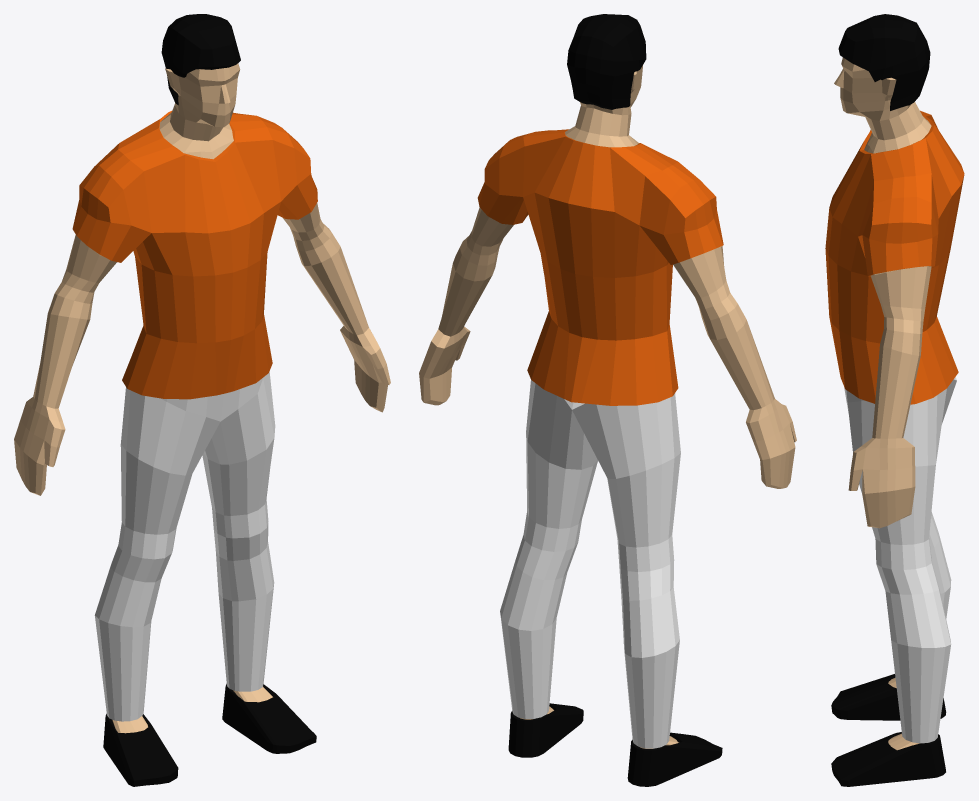
The model's file is male.glb.
3 views of the same model, side by side, from view 1: azimuth 30°, elevation 25°; view 2: azimuth 150°, elevation 25°; view 3: azimuth 270°, elevation 25° (orthographic).
Visible parts, largest first — view 1: Human full_Material.004_0, Human full_Material.005_0, Human full_Material.003_0, Human full_Material.002_0; view 2: Human full_Material.004_0, Human full_Material.005_0, Human full_Material.003_0, Human full_Material.002_0; view 3: Human full_Material.004_0, Human full_Material.005_0, Human full_Material.003_0, Human full_Material.002_0.
Part boxes in pixels (x1,y1,x2,y2): Human full_Material.004_0: (72,111,317,399); Human full_Material.005_0: (94,371,275,721); Human full_Material.003_0: (14,63,390,733); Human full_Material.002_0: (103,14,316,786); Human full_Material.004_0: (477,129,723,405); Human full_Material.005_0: (500,380,680,748); Human full_Material.003_0: (419,65,796,748); Human full_Material.002_0: (508,14,722,786); Human full_Material.004_0: (825,110,964,404); Human full_Material.005_0: (844,377,956,743); Human full_Material.003_0: (834,57,931,750); Human full_Material.002_0: (831,14,946,786).
Size of the model in its own units: 1.02 by 1.99 by 0.348.
